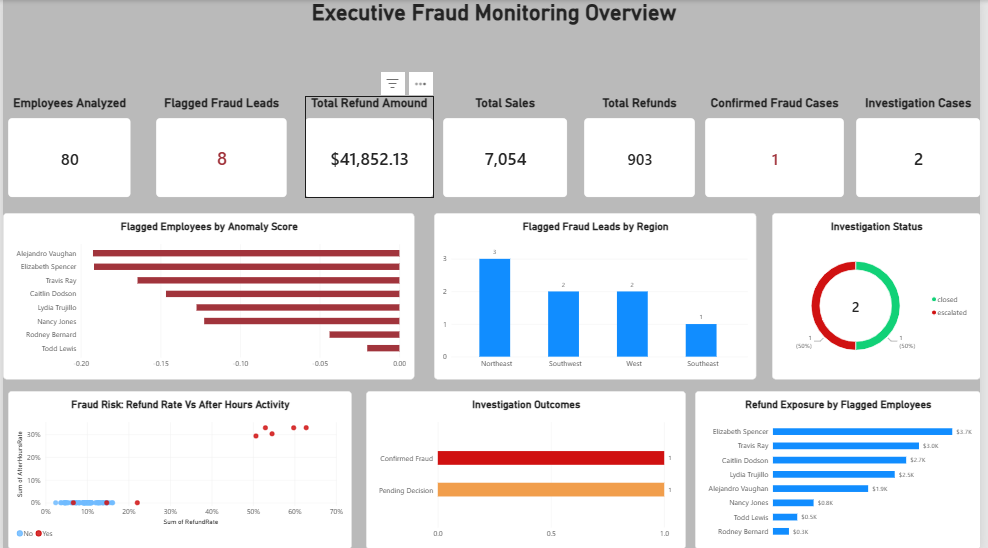

Layout of this report page (visuals, bound fields, positions):
{"tool":"powerbi","page":{"name":"Fraud Analysis","canvas":[1920,1080],"ordinal":0},"visuals":[{"type":"cardVisual","title":"Employees Analyzed","fields":{"Data":["employees.Employees Analyzed"]},"box":[10.6,188.8,242,199.4],"z":0},{"type":"cardVisual","title":"Flagged Fraud Leads","fields":{"Data":["isolation_forest_results.Flagged Fraud Leads"]},"box":[300.5,188.8,258,199.4],"z":1000},{"type":"cardVisual","title":"Total Sales","fields":{"Data":["sales.Total Sales"]},"box":[864.3,188.8,244.7,199.4],"z":2000},{"type":"cardVisual","title":"Total Refunds","fields":{"Data":["refunds.Total Refunds"]},"box":[1140.8,188.8,218.1,199.4],"z":3000},{"type":"cardVisual","title":"Total Refund Amound","fields":{"Data":["Sum(refunds.RefundAmount)"]},"box":[593,188.8,252.6,199.4],"z":4000},{"type":"cardVisual","title":"Confirmed Fraud Cases","fields":{"Data":["investigations.Confirmed Fraud Cases"]},"box":[1377.5,188.8,273.9,199.4],"z":5000},{"type":"cardVisual","title":"Investigation Cases","fields":{"Data":["investigations.Investigation Cases"]},"box":[1675.3,188.8,244.7,199.4],"z":6000},{"type":"clusteredBarChart","title":"Flagged Employees by Anomaly Score","fields":{"Category":["isolation_forest_results.EmployeeName"],"Y":["Sum(isolation_forest_results.Anomaly_Score)"]},"box":[0,417.5,808.4,327.1],"z":7000},{"type":"scatterChart","title":"Fraud Risk:  Refund Rate Vs After Hours Activity","fields":{"Category":["isolation_forest_results.EmployeeName"],"Series":["isolation_forest_results.Is_Flagged_Fraud"],"X":["Sum(isolation_forest_results.RefundRate)"],"Y":["Sum(isolation_forest_results.AfterHoursRate)"]},"box":[10.6,768.5,675.5,311.1],"z":8000},{"type":"clusteredBarChart","title":"Refund Exposure by Flagged Employees","fields":{"Category":["isolation_forest_results.EmployeeName"],"Y":["Sum(isolation_forest_results.TotalRefundAmount)"]},"box":[1358.9,768.5,561.1,311.1],"z":9000},{"type":"clusteredColumnChart","title":"Flagged Fraud Leads by Region","fields":{"Category":["isolation_forest_results.Region"],"Y":["Count(isolation_forest_results.EmployeeID)"]},"box":[845.7,417.5,632.9,327.1],"z":10000},{"type":"donutChart","title":"Investigation Status","fields":{"Category":["investigations.CaseStatus"],"Y":["investigations.Investigation Cases"]},"box":[1510.5,417.5,409.5,327.1],"z":11000},{"type":"clusteredBarChart","title":" Investigation Outcomes","fields":{"Category":["investigations.Disposition Display"],"Y":["CountNonNull(investigations.InvestigationID)"]},"box":[712.7,768.5,627.6,311.1],"z":12000},{"type":"textbox","title":"Executive Fraud Monitoring Overview","box":[10.6,0,1909.4,188.8],"z":13000}]}

Visuals, with their boxes in screenshot pixels (x1, y1, x2, y2), scaled from the page's 1920x1080 canvas onto the 988x548 screenshot:
"Employees Analyzed" cardVisual: box=[5, 96, 130, 197]
"Flagged Fraud Leads" cardVisual: box=[155, 96, 287, 197]
"Total Sales" cardVisual: box=[445, 96, 571, 197]
"Total Refunds" cardVisual: box=[587, 96, 699, 197]
"Total Refund Amound" cardVisual: box=[305, 96, 435, 197]
"Confirmed Fraud Cases" cardVisual: box=[709, 96, 850, 197]
"Investigation Cases" cardVisual: box=[862, 96, 987, 197]
"Flagged Employees by Anomaly Score" clusteredBarChart: box=[0, 212, 416, 378]
"Fraud Risk:  Refund Rate Vs After Hours Activity" scatterChart: box=[5, 390, 353, 547]
"Refund Exposure by Flagged Employees" clusteredBarChart: box=[699, 390, 987, 547]
"Flagged Fraud Leads by Region" clusteredColumnChart: box=[435, 212, 761, 378]
"Investigation Status" donutChart: box=[777, 212, 987, 378]
" Investigation Outcomes" clusteredBarChart: box=[367, 390, 690, 547]
"Executive Fraud Monitoring Overview" textbox: box=[5, 0, 987, 96]
